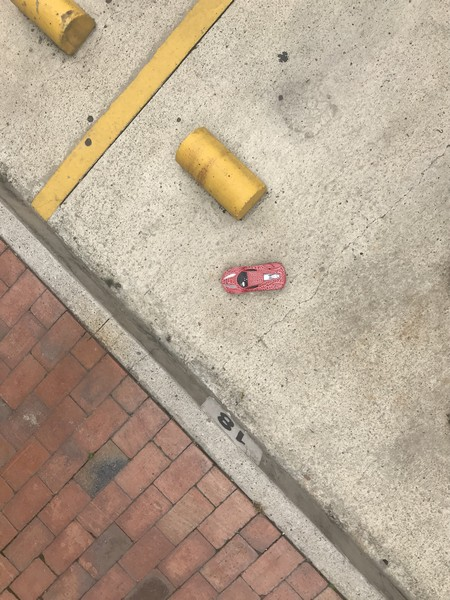RC: (219, 262, 288, 294)
